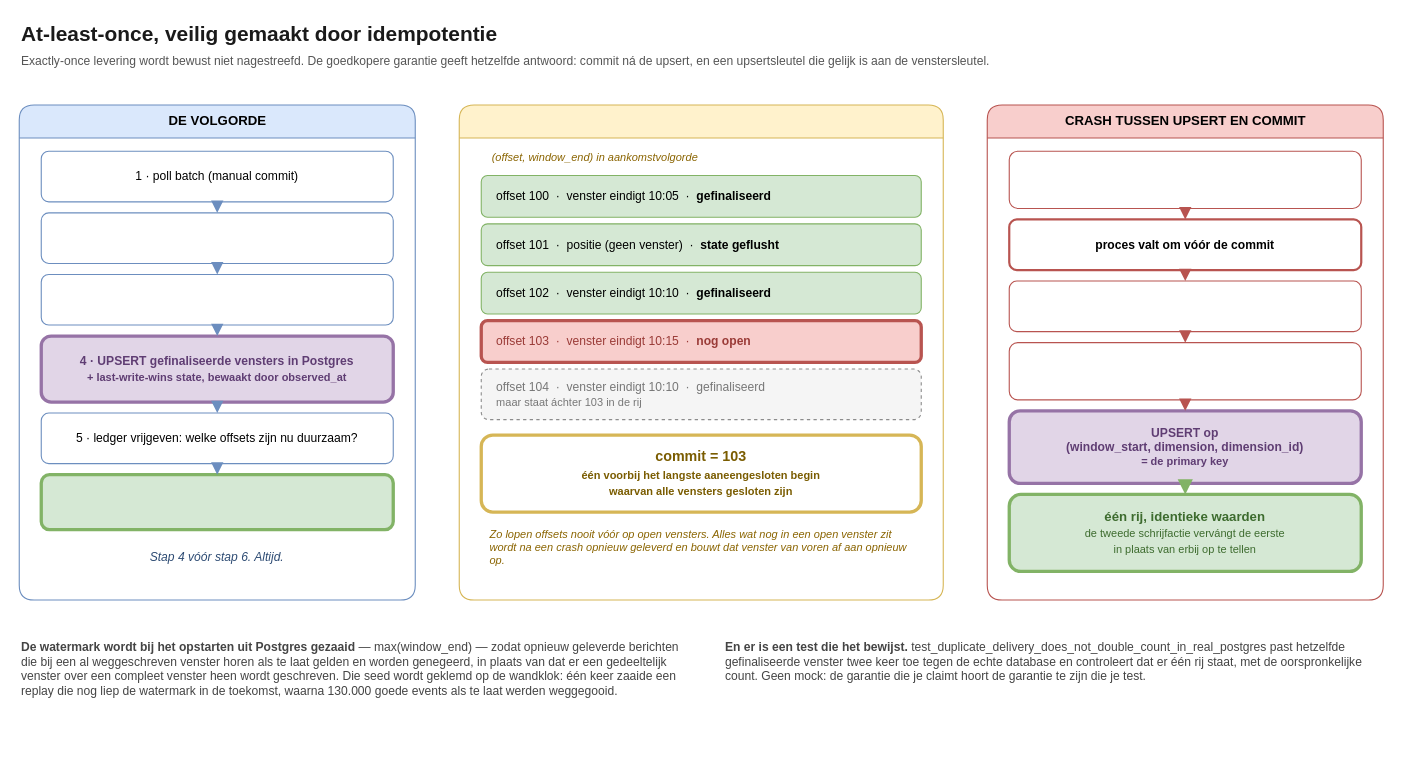
The diagram is 1403 pixels wide and 783 high, and some of its shapes have lost their labels. The shapes that lost their labels are listed below. From the top down, each one's box as (x1, y1, x2, y2) in pixels, then its label:
(1008, 150, 1361, 208): venster 10:05–10:10 wordt geüpsert count = 412
(40, 212, 393, 263): 2 · decoderen · dedupe · in het venster tellen
(40, 273, 393, 325): 3 · watermark bijwerken → welke vensters sluiten?
(1008, 280, 1361, 332): broker levert dezelfde berichten opnieuw
(458, 104, 943, 600): DE OFFSET-LEDGER, PER PARTITIE
(1008, 342, 1361, 400): processor herberekent hetzelfde venster dezelfde events → dezelfde count = 412
(39, 472, 394, 531): 6 · COMMIT offsets
